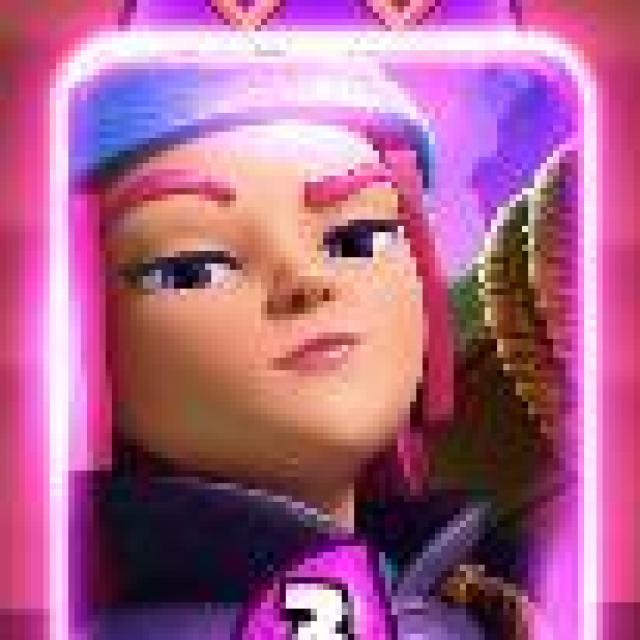Evolved_Firecracker: (46, 30, 602, 640)
